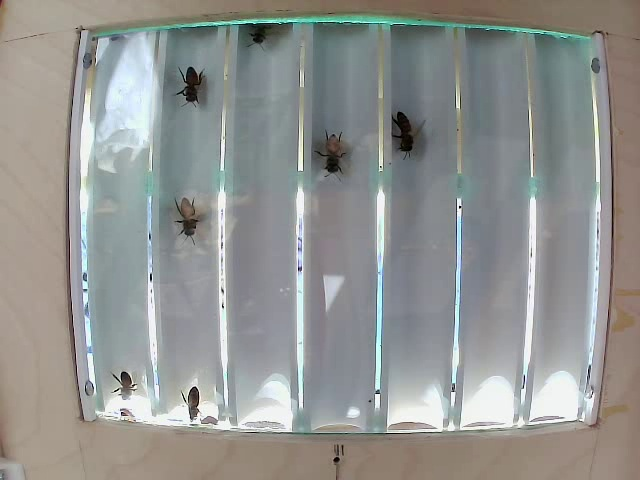bee: (311, 120, 356, 181), (184, 56, 222, 120), (378, 102, 416, 163), (246, 15, 286, 58), (172, 196, 200, 242), (177, 381, 207, 416)
